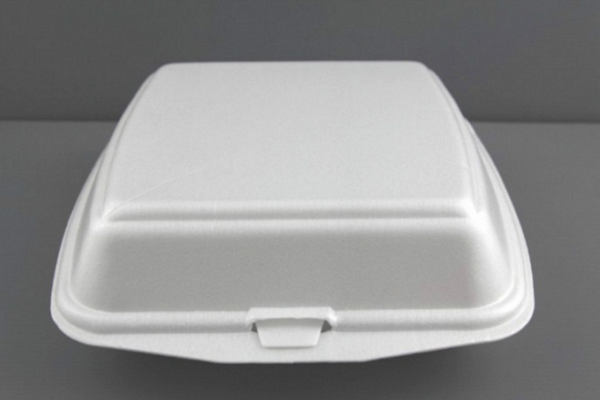Foam Box: (47, 55, 539, 370)
